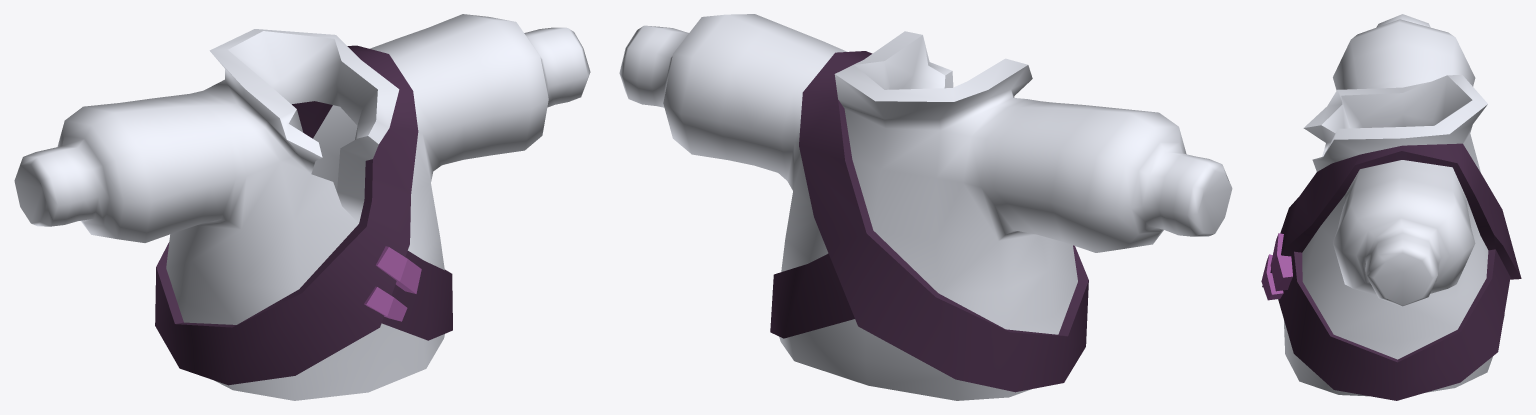
File: Top_1.fbx
The picture shows the model from 3 angles, left to right: view 1: azimuth 30°, elevation 25°; view 2: azimuth 150°, elevation 25°; view 3: azimuth 270°, elevation 25°; orthographic projection. The views are drawn at different scales.
Visible parts, largest first — view 1: Top_1; view 2: Top_1; view 3: Top_1.
Part boxes in pixels (x1,y1,x2,y2): Top_1: (14, 14, 590, 400); Top_1: (619, 14, 1232, 400); Top_1: (1261, 14, 1521, 400).
Bounding box in the file's own units: 95.72 × 48.55 × 44.45.
